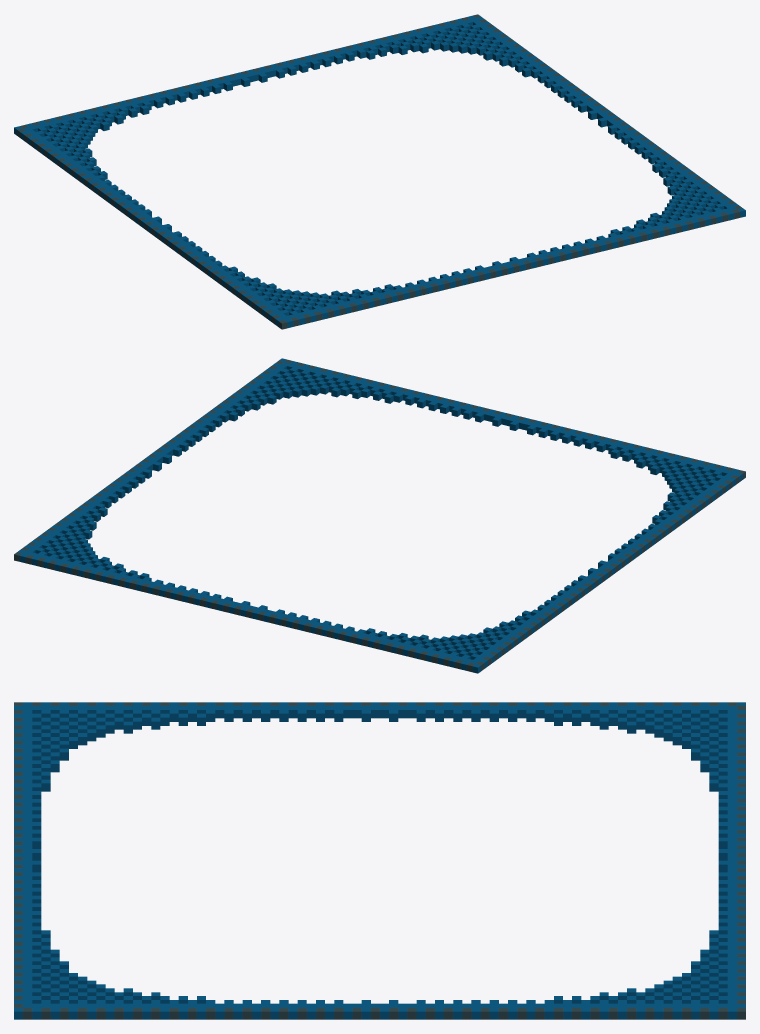
Rendered from flyable_tile.glb.
3 renders of one model, top to bottom at view 1: azimuth 30°, elevation 25°; view 2: azimuth 150°, elevation 25°; view 3: azimuth 270°, elevation 25°, orthographic. The views are drawn at different scales.
Visible parts, largest first — view 1: flyable_tile; view 2: flyable_tile; view 3: flyable_tile.
Part boxes in pixels (<box>): flyable_tile: <box>14,14,745,329</box>; flyable_tile: <box>14,358,745,673</box>; flyable_tile: <box>14,702,745,1019</box>.
Bounding box in the file's own units: 8 × 0.1 × 8.
1 material, 1 textured.
